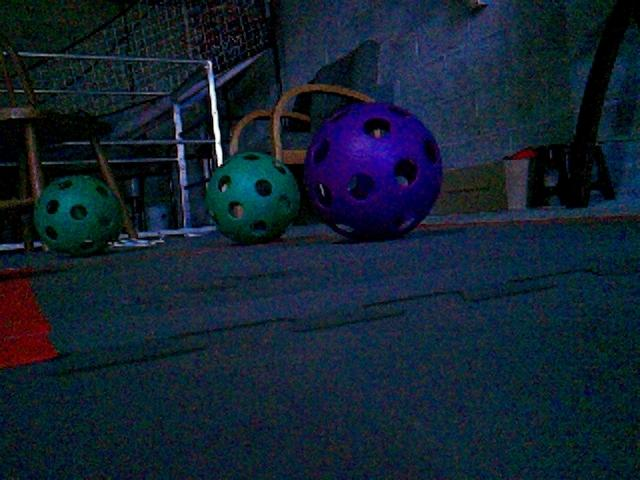Green: (202, 150, 302, 244), (29, 173, 124, 256)
Purple: (301, 102, 443, 240)
